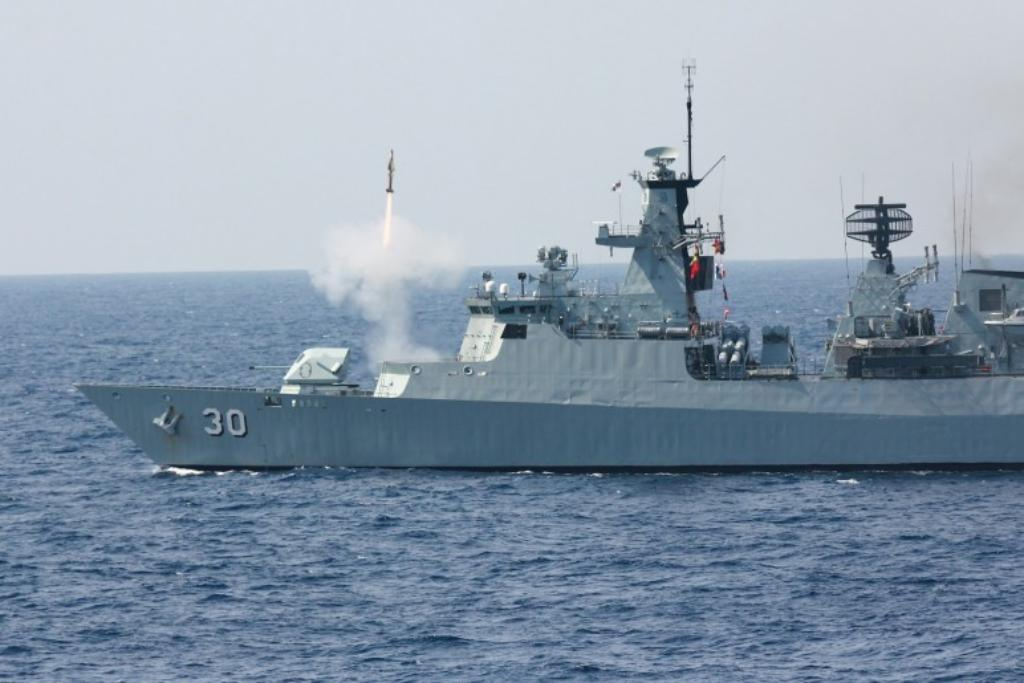Warship: (72, 53, 1024, 478)
